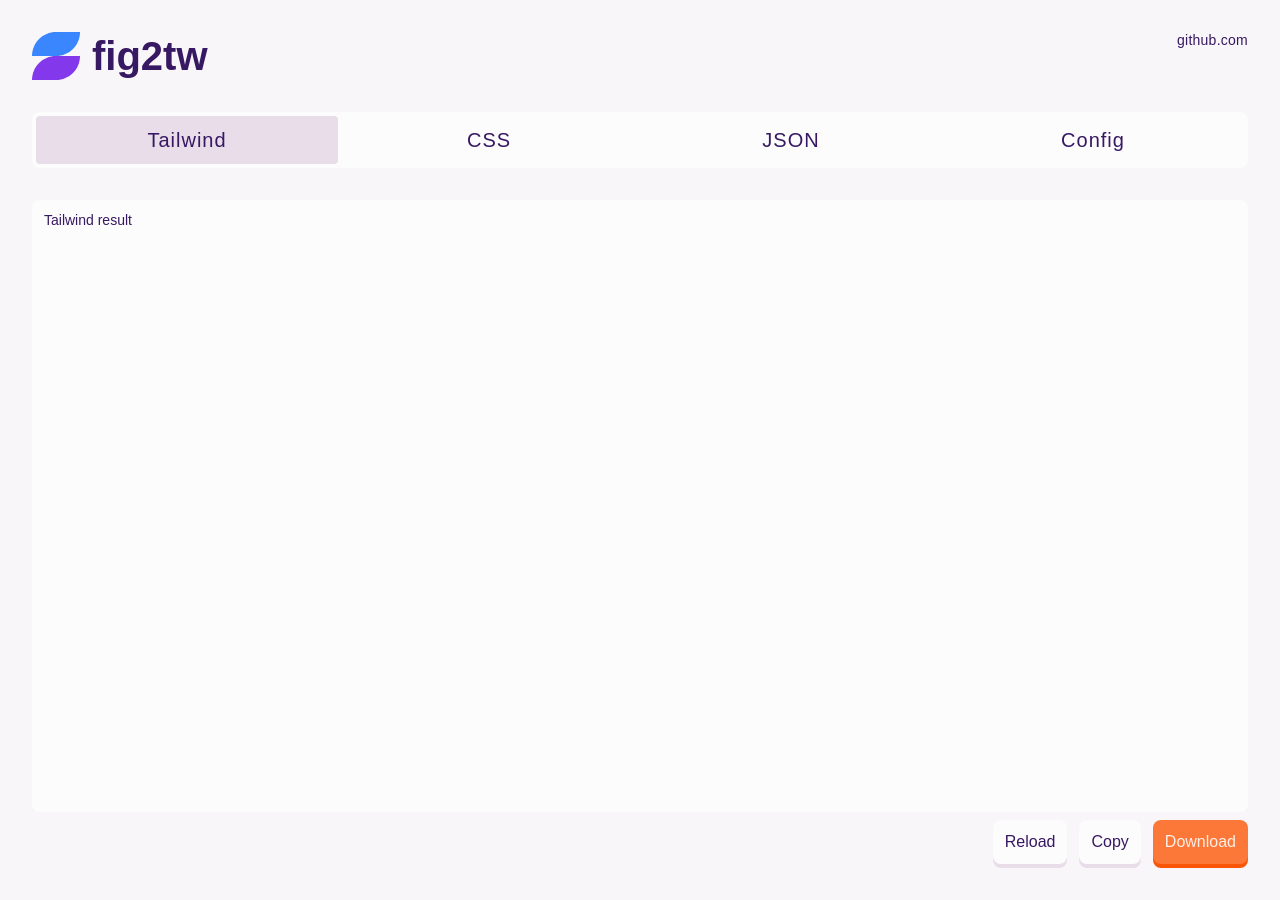
Test: App › should navigate to JSON tab
The width and height of the screenshot is (1280, 900).
Click the tab "JSON" at [791, 140], box [640,116,942,164]
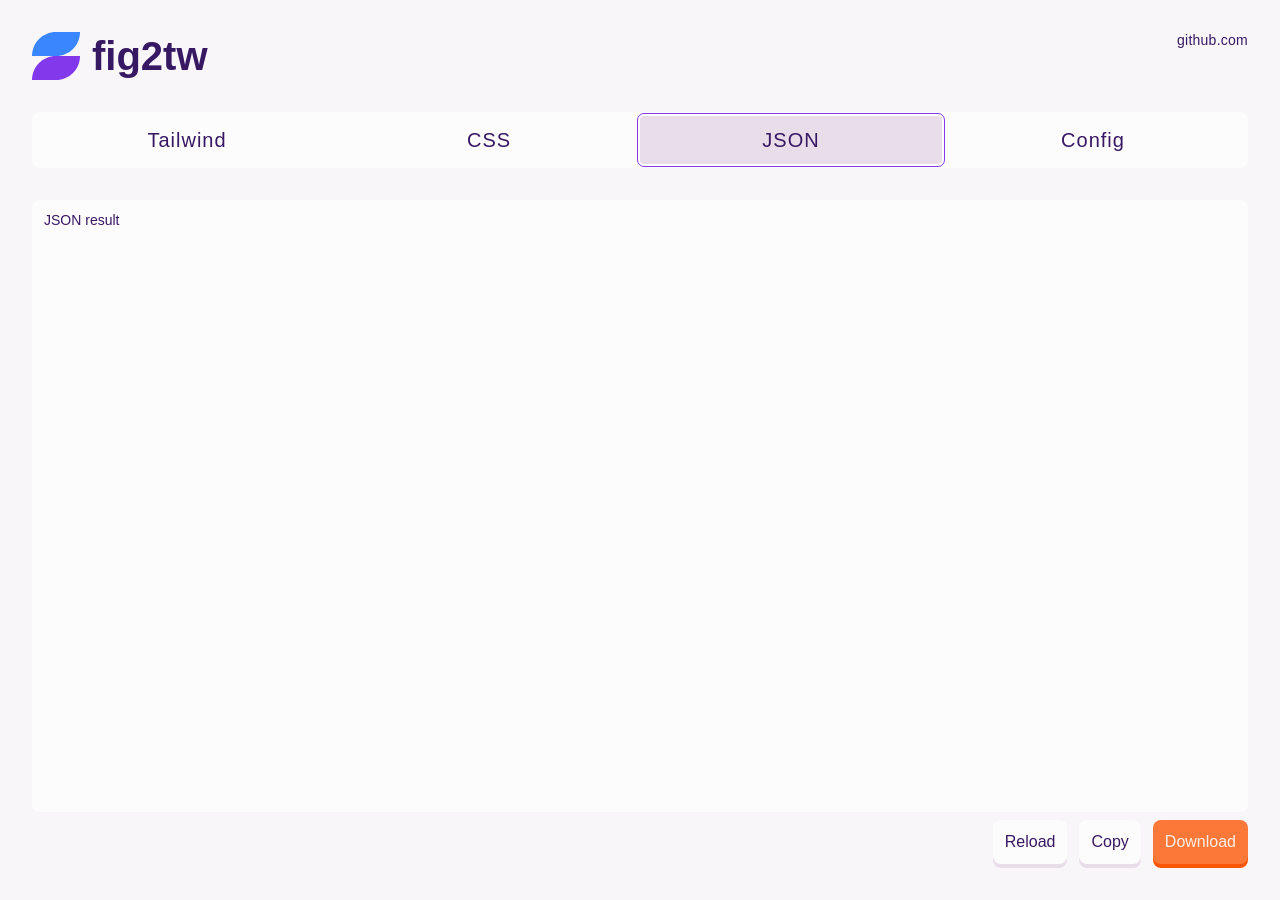
Expected: the text "JSON result" is shown, [44,212,120,228]
